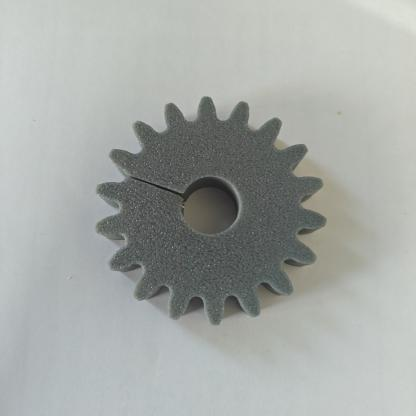defect: (100, 140, 216, 234)
gear: (89, 88, 340, 344)
